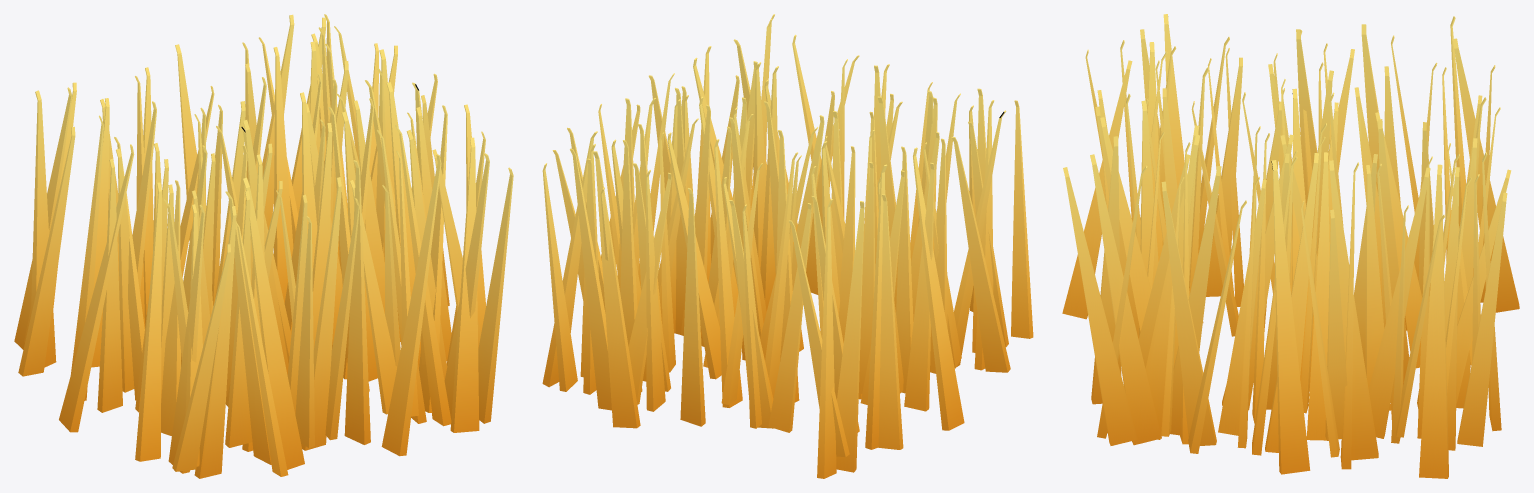
File: wheat.glb
3 renders of one model, left to right at view 1: azimuth 30°, elevation 25°; view 2: azimuth 150°, elevation 25°; view 3: azimuth 270°, elevation 25°, orthographic. The views are drawn at different scales.
Parts seen in each view (by area): view 1: Cube.024; view 2: Cube.024; view 3: Cube.024.
Boxes of the visible parts, x1,y1,x2,y2 form: Cube.024: [14, 14, 513, 478]; Cube.024: [542, 14, 1033, 478]; Cube.024: [1062, 14, 1519, 478].
Bounding box in the file's own units: 1.15 × 0.812 × 1.13.
1 material, 1 textured.
